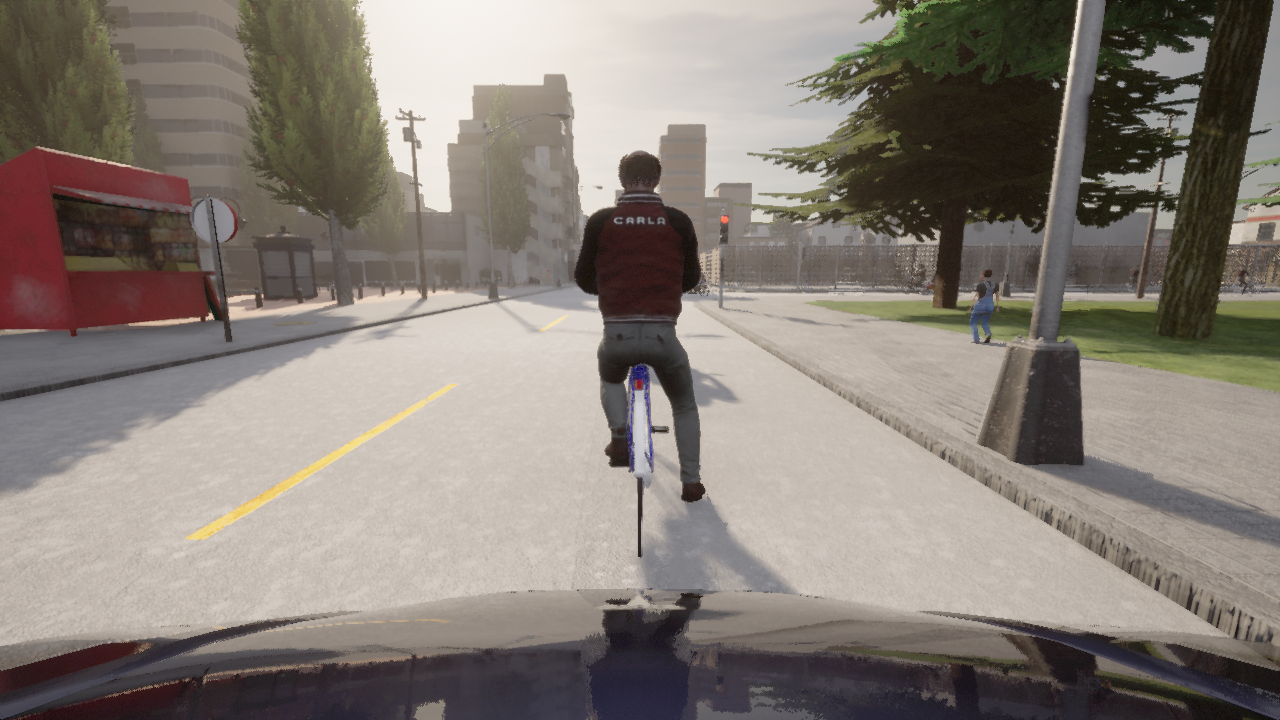cyclist: (0, 588, 1279, 719), (609, 364, 668, 557), (681, 273, 710, 296), (1225, 277, 1259, 295), (1119, 281, 1153, 295), (763, 270, 792, 281), (841, 268, 864, 281), (736, 266, 755, 281), (902, 280, 925, 292), (800, 271, 820, 281), (920, 280, 933, 295), (877, 269, 893, 278), (865, 271, 878, 281), (772, 273, 787, 281), (1150, 278, 1151, 281)
pedestrian: (968, 267, 1000, 343), (546, 265, 551, 285)
